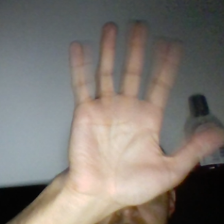left: (59, 14, 224, 202)
